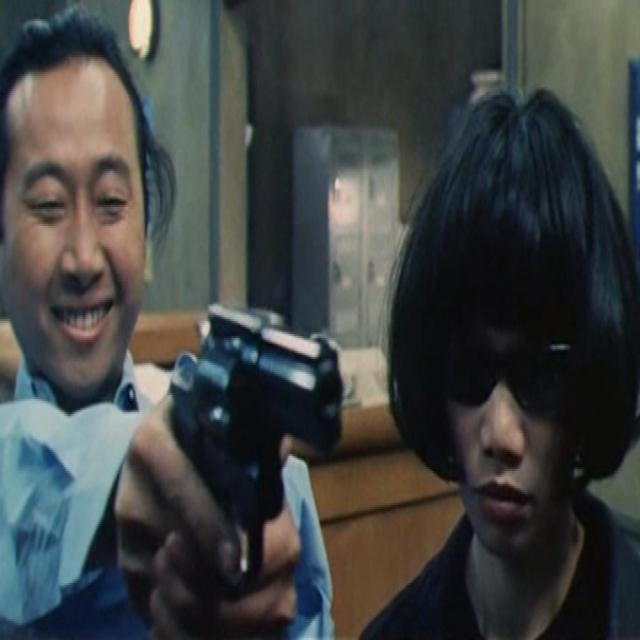weapons: (145, 247, 350, 567)
